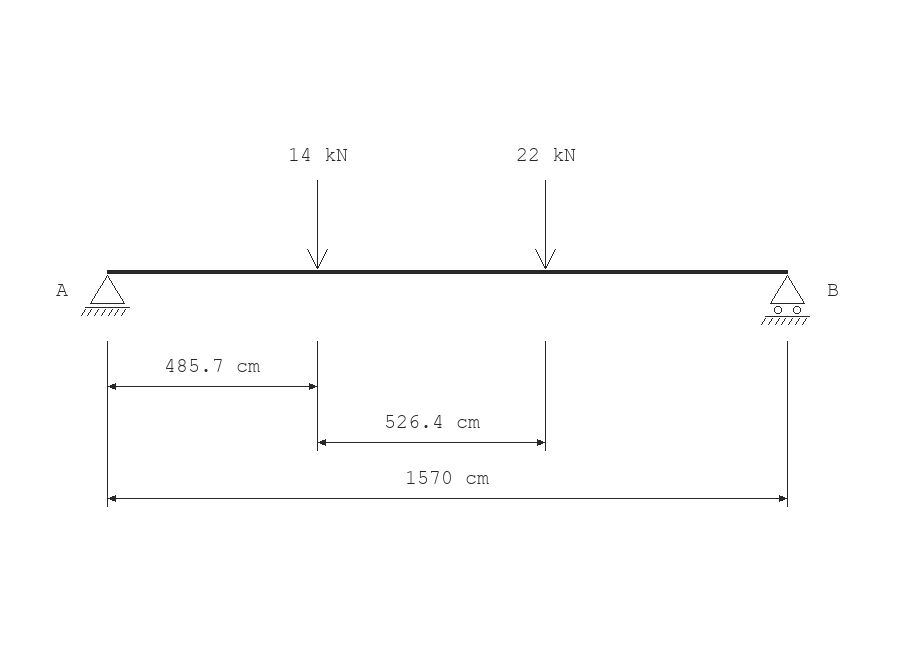pin_support: (81, 275, 130, 316)
point_load: (307, 180, 328, 269), (535, 180, 556, 269)
roller_support: (761, 275, 810, 325)
